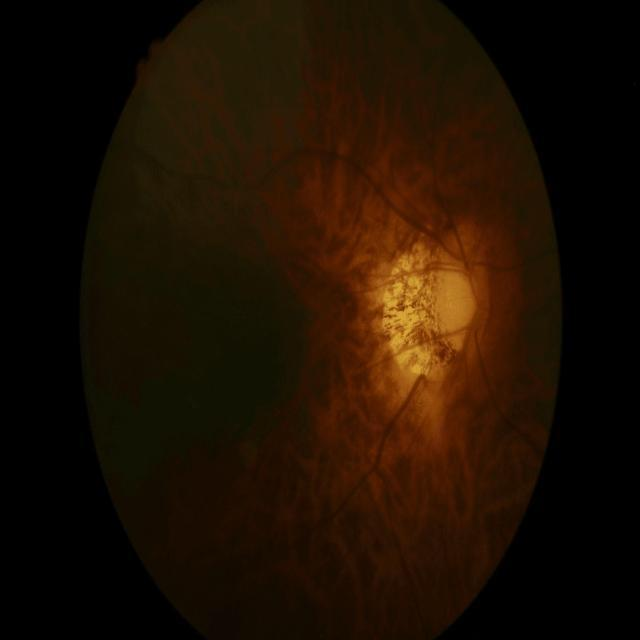cup: (440, 249, 478, 350)
disk: (434, 226, 491, 364)
